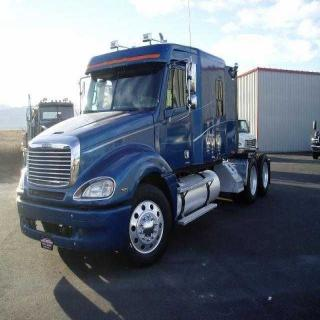Towing_truck: (15, 32, 271, 267)
